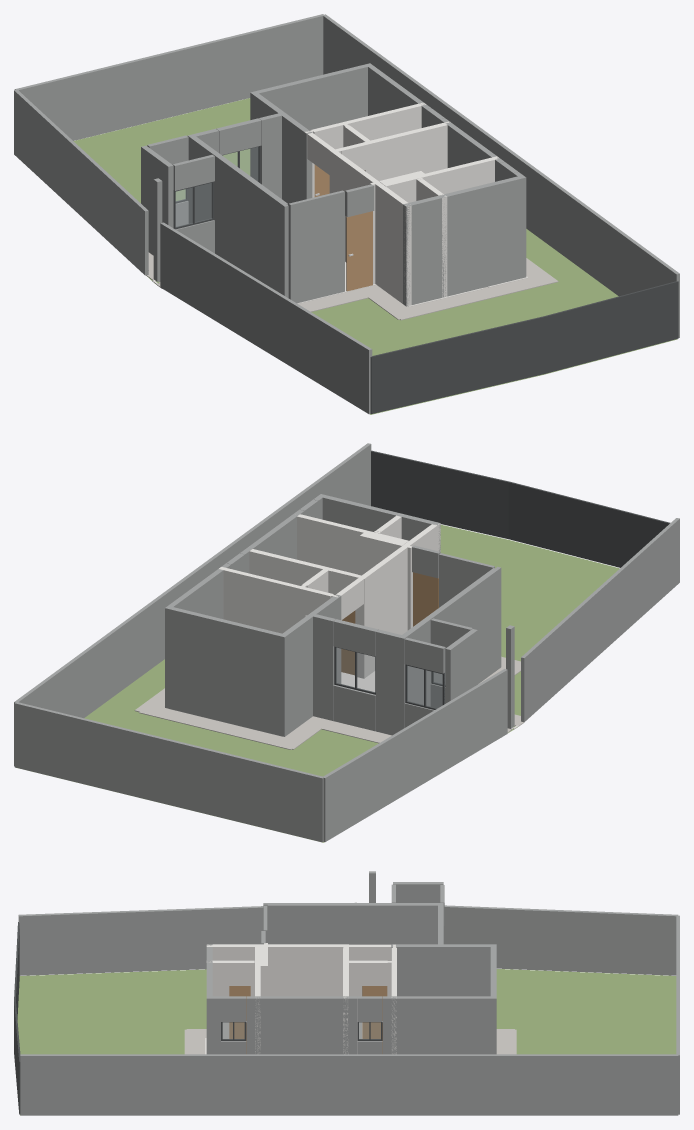
File: casa.glb
3 views of the same model, one above another, from view 1: azimuth 30°, elevation 25°; view 2: azimuth 150°, elevation 25°; view 3: azimuth 270°, elevation 25° (orthographic). The views are drawn at different scales.
Visible parts, largest first — view 1: fachada, esquadria, grama, parede, concreto, door3_swing__porta, vidro; view 2: fachada, grama, parede, esquadria, concreto, vidro, door3_swing__porta; view 3: fachada, grama, parede, esquadria, concreto, vidro, door1_swing__porta, door0_swing__porta.
Boxes of the visible parts, x1=… form: fachada: x1=14, y1=14, x2=679, y2=414; esquadria: x1=173, y1=146, x2=678, y2=414; grama: x1=73, y1=98, x2=677, y2=414; parede: x1=305, y1=102, x2=498, y2=306; concreto: x1=146, y1=252, x2=558, y2=320; door3_swing__porta: x1=346, y1=211, x2=372, y2=291; vidro: x1=175, y1=147, x2=258, y2=226; fachada: x1=14, y1=443, x2=679, y2=842; grama: x1=17, y1=524, x2=619, y2=842; parede: x1=219, y1=514, x2=440, y2=678; esquadria: x1=334, y1=450, x2=670, y2=709; concreto: x1=134, y1=656, x2=524, y2=749; vidro: x1=336, y1=647, x2=442, y2=708; door3_swing__porta: x1=413, y1=572, x2=438, y2=626; fachada: x1=18, y1=871, x2=679, y2=1115; grama: x1=17, y1=969, x2=676, y2=1115; parede: x1=206, y1=943, x2=396, y2=1054; esquadria: x1=14, y1=922, x2=382, y2=1114; concreto: x1=184, y1=1029, x2=516, y2=1054; vidro: x1=223, y1=1022, x2=380, y2=1038; door1_swing__porta: x1=362, y1=986, x2=387, y2=1053; door0_swing__porta: x1=229, y1=986, x2=250, y2=1053.
Size of the model in its own units: 9.93 by 2.83 by 18.24.
